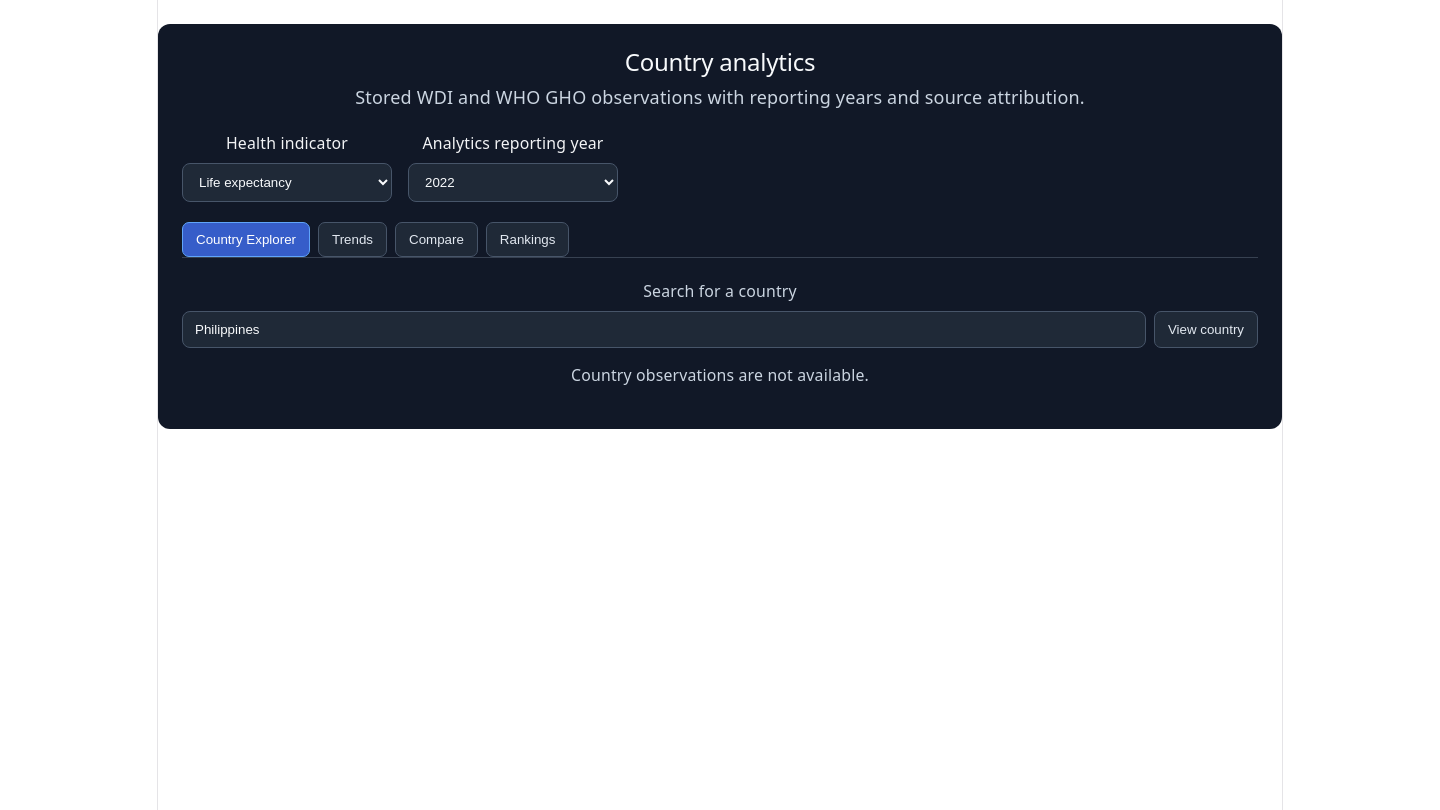
Test: global analytics › searches by ISO-3 and shows actual metric years, units, region, and source
The image size is (1440, 810).
Replace the text in the field labelled "Search for a country" with "SGP": point(664, 329) [182,311,1146,348]
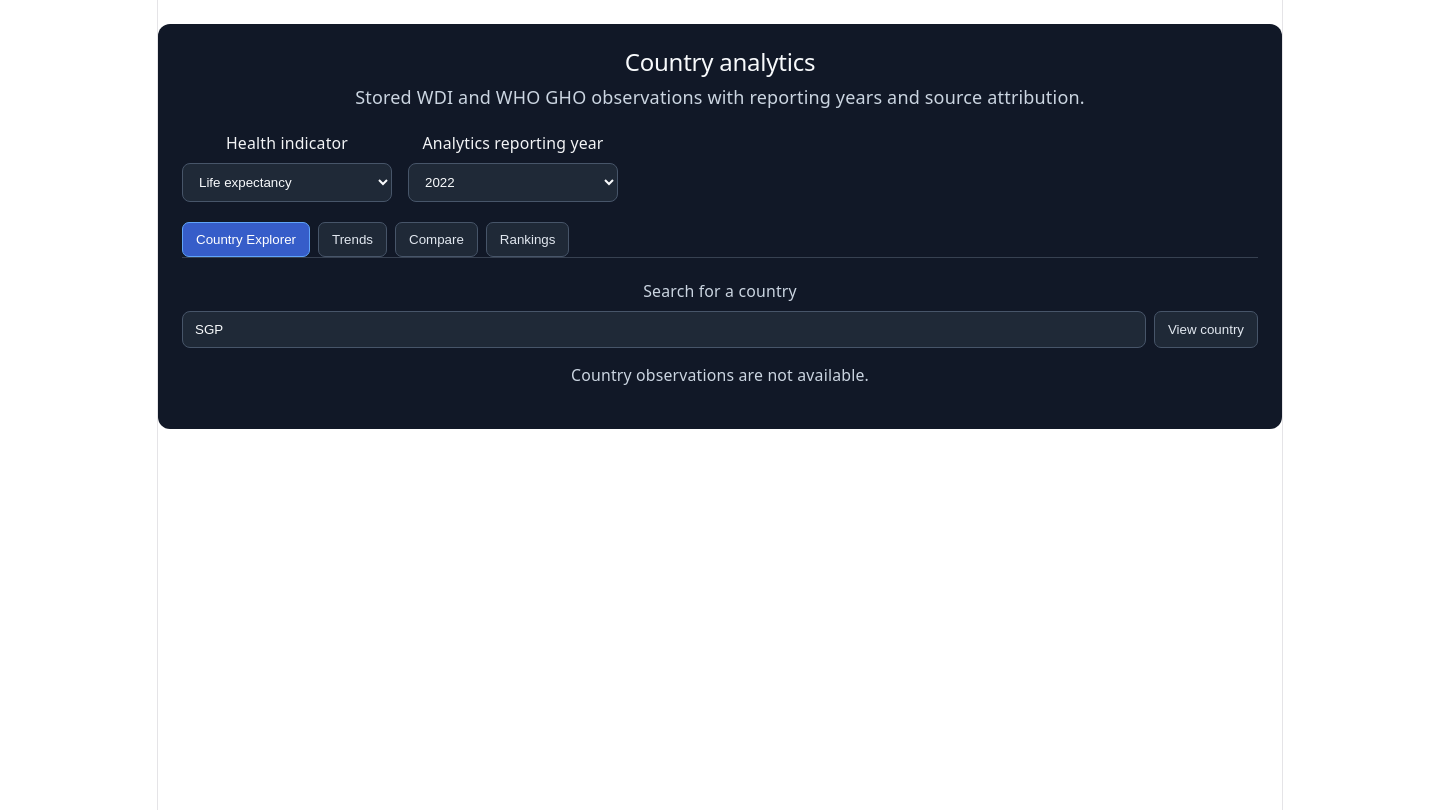
Click the button "View country": point(1206, 329) [1154,311,1258,348]
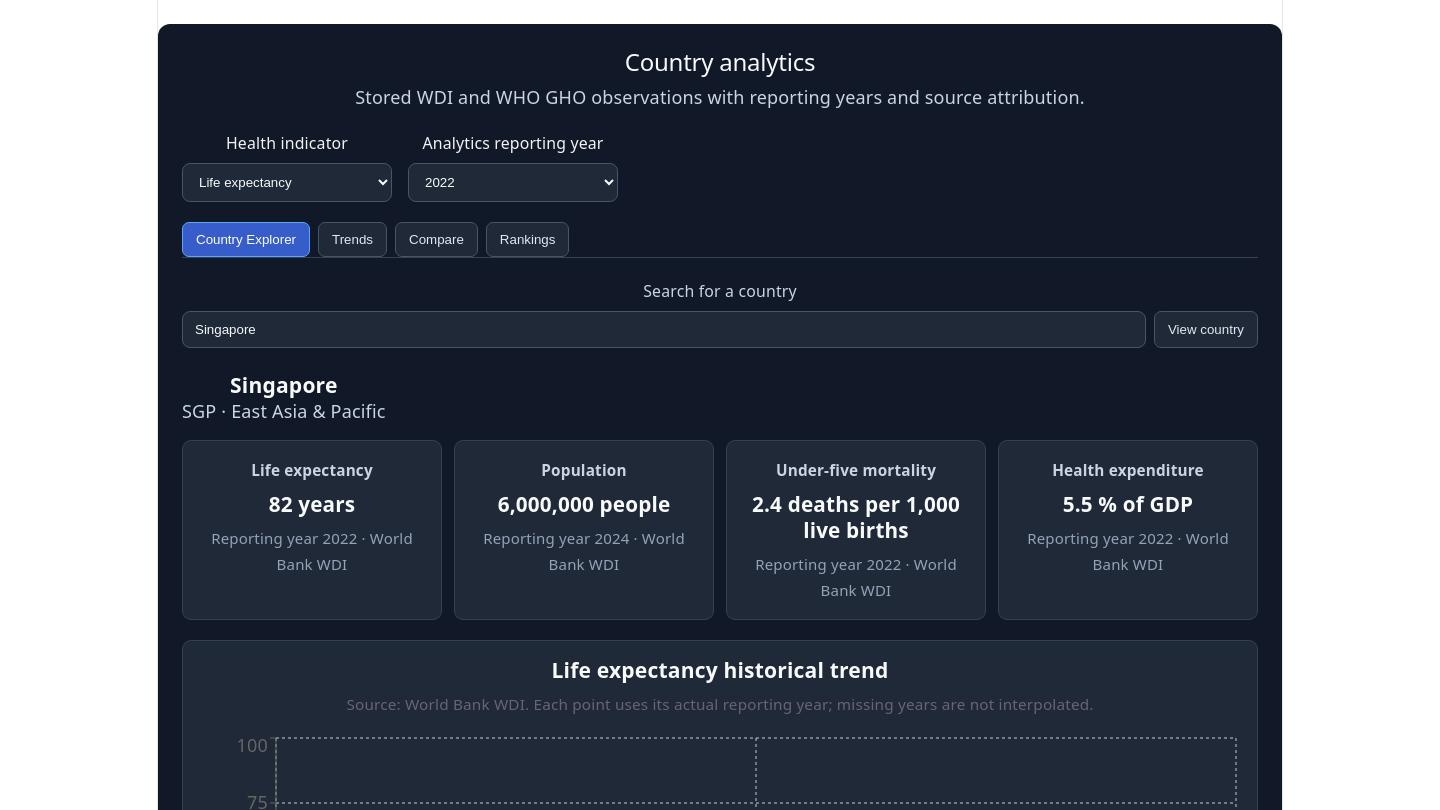
Result: the heading "Singapore" is shown at [230,370,338,399]
Result: the text "SGP · East Asia & Pacific" is shown at [182,398,386,424]
Result: the text "82 years" is shown at [269,490,355,518]
